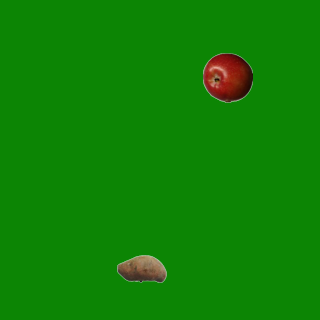Apple Braeburn: (202, 52, 252, 102)
Potato Sweet: (116, 243, 166, 293)
